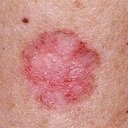Carcinoma: (20, 28, 104, 106)
